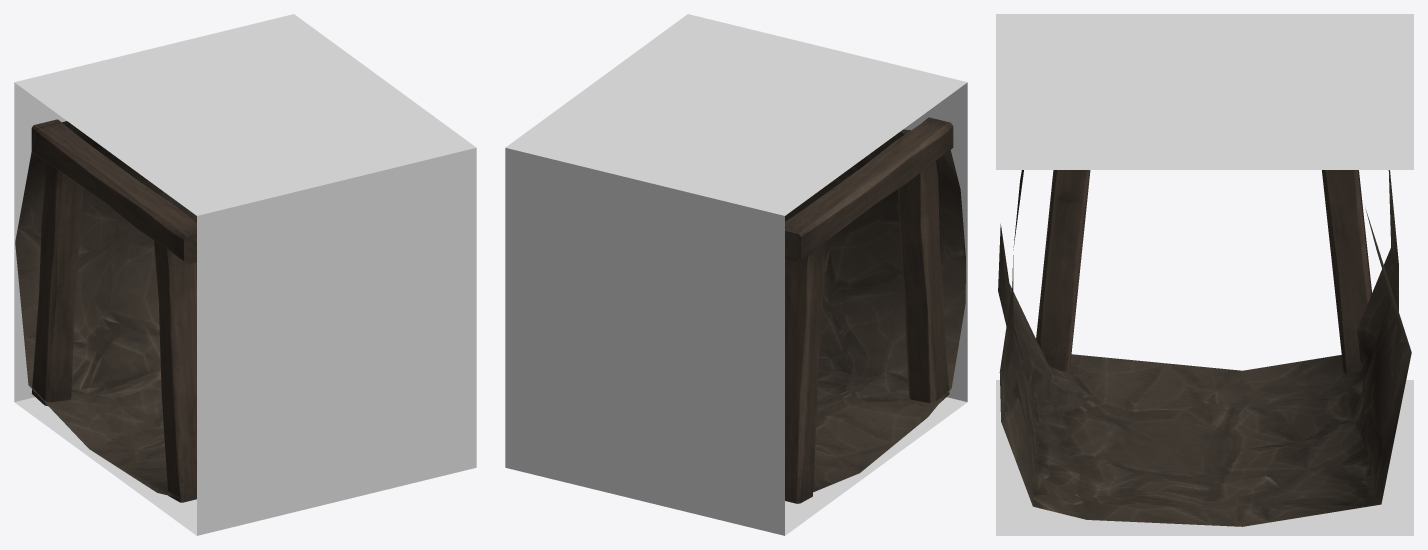
File: test mine .fbx
3 views of the same model, side by side, from view 1: azimuth 30°, elevation 25°; view 2: azimuth 150°, elevation 25°; view 3: azimuth 270°, elevation 25° (orthographic). The views are drawn at different scales.
Parts seen in each view (by area): view 1: Cube.001; view 2: Cube.001; view 3: Cube.001.
Part boxes in pixels (x1,y1,x2,y2): Cube.001: (14,14,476,535); Cube.001: (505,14,967,535); Cube.001: (996,14,1413,535).
Size of the model in its own units: 346 by 306 by 335.
